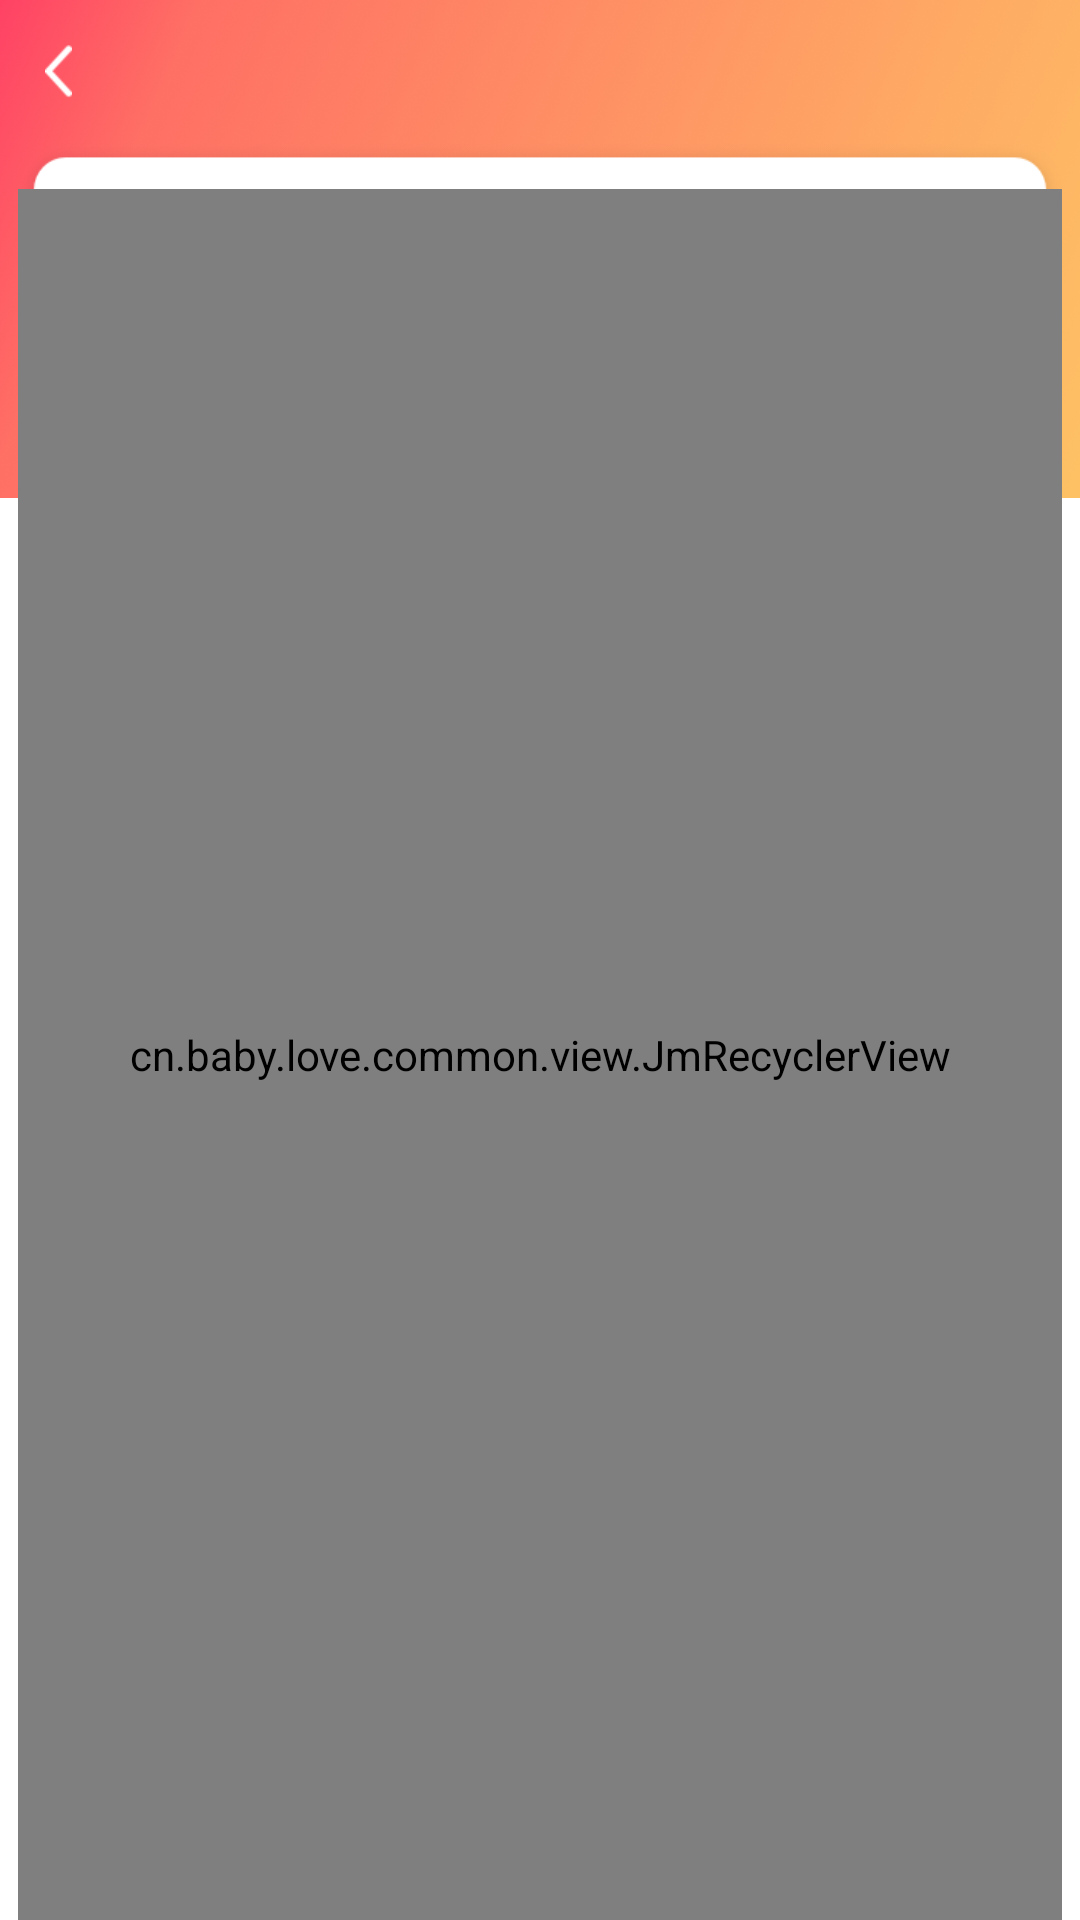

Where icons sit on this 1080x1920 app screen, as (x1, y1, x2, y2):
back: (45, 45, 72, 97)
